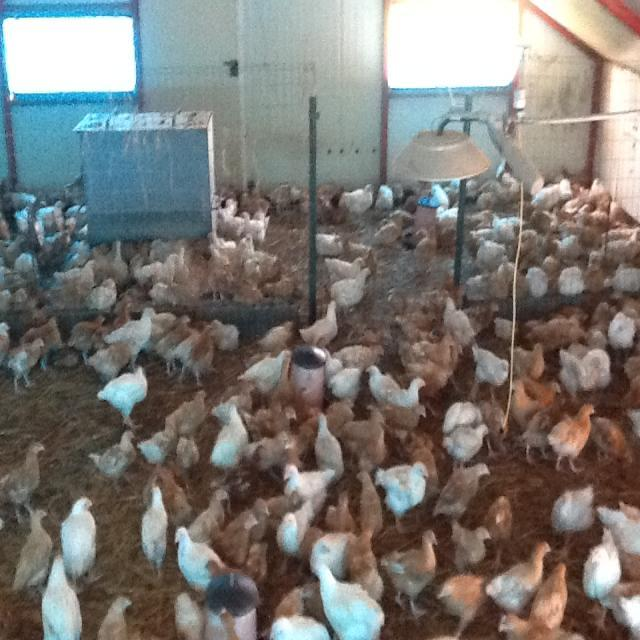poussin: (310, 556, 384, 640), (483, 540, 552, 628), (396, 332, 466, 418), (381, 530, 438, 622), (580, 526, 624, 634), (374, 458, 431, 534), (0, 440, 46, 526), (96, 362, 152, 431), (38, 553, 82, 640), (548, 480, 597, 558), (174, 594, 256, 640), (430, 463, 493, 522), (172, 522, 224, 590), (436, 571, 488, 638), (14, 506, 54, 592), (558, 328, 610, 394), (548, 401, 596, 472), (106, 302, 162, 362), (297, 398, 358, 453), (88, 429, 138, 494), (232, 346, 298, 395), (173, 318, 219, 386), (60, 496, 98, 578), (598, 501, 640, 574), (203, 561, 263, 612), (528, 558, 570, 629), (480, 496, 518, 573), (517, 403, 563, 464), (526, 307, 592, 349), (496, 610, 588, 640), (338, 405, 388, 460), (208, 404, 250, 469), (466, 343, 510, 405), (87, 334, 138, 387), (508, 376, 564, 424), (147, 461, 190, 522), (283, 461, 336, 508), (277, 496, 317, 556), (162, 390, 210, 440), (243, 432, 291, 482), (350, 528, 384, 598), (191, 488, 234, 543), (224, 508, 261, 571), (451, 516, 494, 570), (600, 582, 640, 640), (10, 331, 50, 389), (142, 486, 168, 574), (312, 409, 344, 480), (248, 404, 302, 446), (308, 528, 354, 576), (355, 464, 384, 540), (592, 416, 636, 466), (22, 316, 64, 368), (584, 231, 640, 270), (277, 583, 325, 628), (156, 314, 192, 374), (69, 312, 107, 366), (442, 425, 493, 465), (135, 421, 178, 468), (478, 399, 514, 455), (264, 354, 298, 413), (300, 299, 342, 346), (330, 264, 374, 308), (380, 397, 430, 435), (176, 244, 210, 299), (411, 444, 444, 500), (460, 295, 502, 338), (383, 373, 429, 412), (214, 376, 256, 418), (335, 342, 388, 374), (98, 594, 134, 640), (134, 250, 180, 286), (442, 402, 484, 441), (54, 254, 98, 290), (253, 496, 290, 537), (398, 306, 440, 342), (511, 340, 548, 380), (256, 319, 298, 354), (606, 308, 639, 352), (367, 363, 401, 405), (327, 366, 368, 400), (202, 262, 236, 302), (482, 214, 530, 242), (272, 617, 329, 640), (535, 178, 575, 210), (324, 488, 354, 530), (322, 255, 366, 283), (604, 258, 640, 292), (515, 223, 544, 265), (48, 282, 86, 314), (412, 228, 437, 276), (109, 239, 135, 284), (90, 235, 116, 280), (341, 180, 375, 214), (270, 180, 304, 214), (0, 229, 28, 270), (376, 210, 404, 250), (539, 250, 564, 294), (236, 188, 270, 220), (40, 229, 72, 263), (170, 242, 196, 283), (210, 318, 240, 353), (122, 278, 156, 308), (591, 298, 616, 338), (0, 288, 37, 315), (88, 278, 119, 310), (476, 236, 509, 266), (554, 228, 584, 261), (250, 208, 274, 248), (148, 278, 180, 308), (1, 192, 40, 216), (206, 239, 238, 268), (230, 204, 253, 244), (217, 198, 240, 238), (477, 176, 502, 212), (36, 198, 66, 228), (314, 231, 346, 259), (582, 255, 606, 292), (252, 250, 286, 276), (526, 264, 551, 298), (558, 264, 586, 294), (236, 278, 264, 308), (537, 226, 559, 264), (15, 247, 40, 280), (177, 436, 201, 470), (578, 208, 612, 232), (493, 314, 522, 342), (556, 192, 586, 218), (374, 178, 396, 213), (488, 266, 510, 300), (54, 214, 76, 248), (12, 200, 32, 237), (499, 172, 523, 202), (572, 200, 600, 224), (498, 253, 521, 282), (436, 206, 458, 236), (444, 176, 464, 207), (0, 320, 11, 370), (471, 227, 497, 247), (429, 184, 449, 209), (242, 258, 262, 282), (586, 177, 610, 196), (596, 192, 618, 212), (464, 180, 481, 200)
